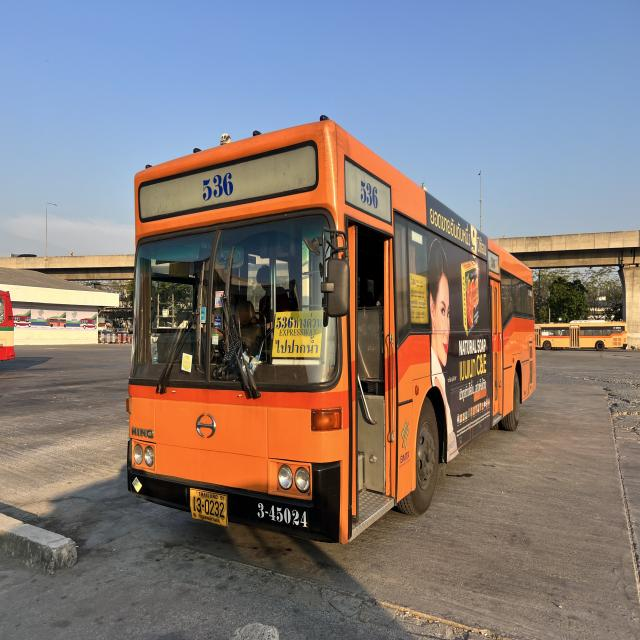BMTA-bus: (126, 117, 537, 546)
Bus-Line-Number: (198, 168, 236, 207), (357, 175, 380, 213)
Destination-Sign-Normal-Expressway: (271, 306, 326, 363)
